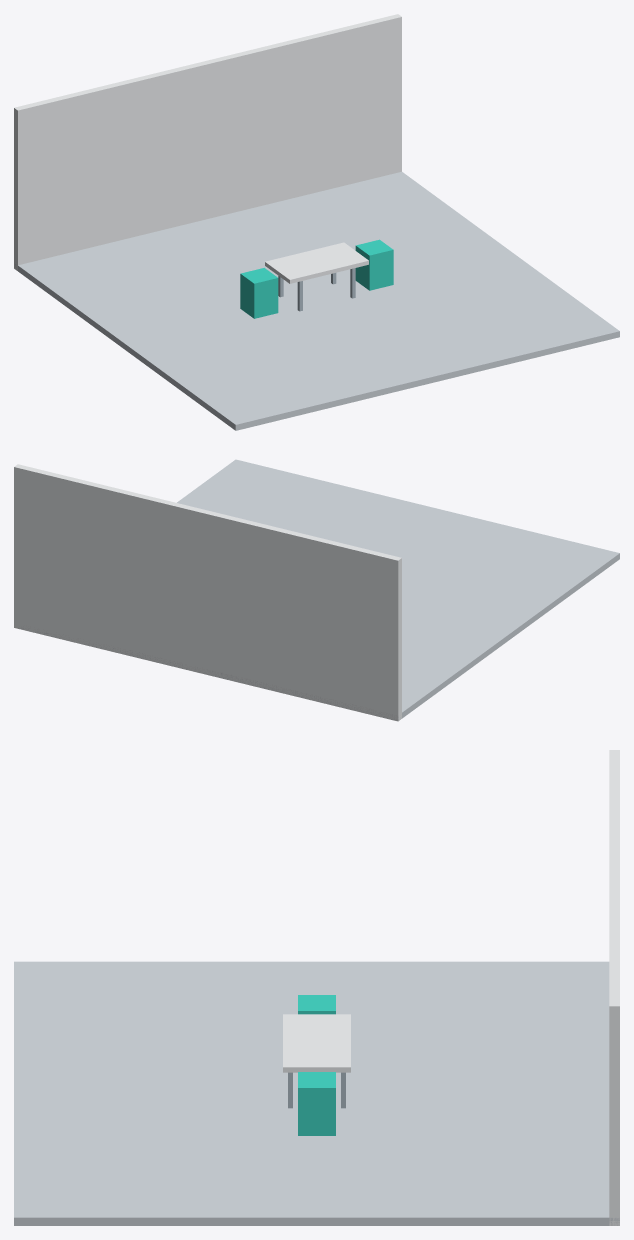
3 views of the same model, one above another, from view 1: azimuth 30°, elevation 25°; view 2: azimuth 150°, elevation 25°; view 3: azimuth 270°, elevation 25° (orthographic). The views are drawn at different scales.
Visible parts, largest first — view 1: Exhibition Booth Concept; view 2: Exhibition Booth Concept; view 3: Exhibition Booth Concept.
Part boxes in pixels (x1,y1,x2,y2): Exhibition Booth Concept: [14, 14, 619, 430]; Exhibition Booth Concept: [14, 459, 619, 721]; Exhibition Booth Concept: [14, 750, 619, 1225].
Size of the model in its own units: 8 by 3.2 by 8.
